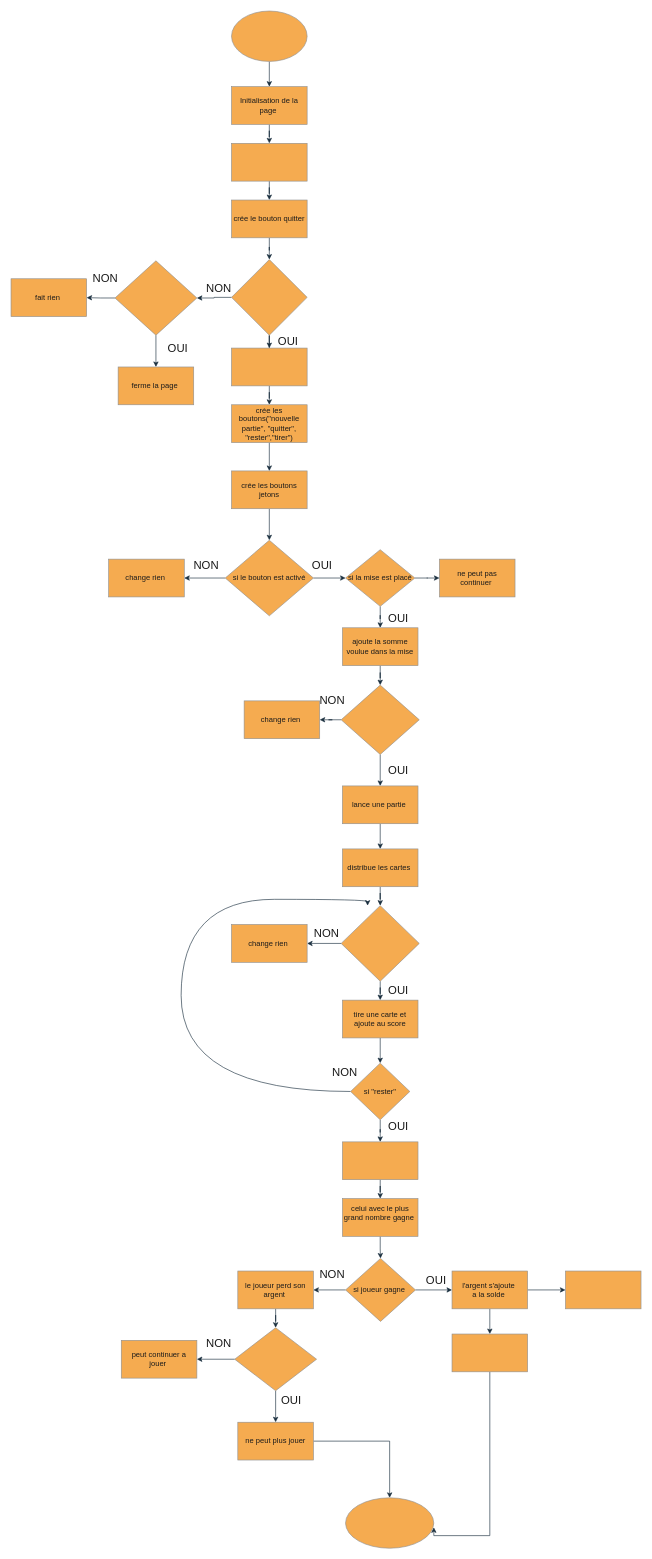
Image size: 652x1559. Some labels were removed from this diagram. The shapes that lost their labels are listed below. From the top down, each one's centre as x and y in pixels, then its label:
point (269, 35): Début
point (269, 162): Crée le bouton jouer
point (155, 297): si bouton quitter est activé
point (269, 297): si bouton jouer est activé
point (269, 366): Lance le jeu
point (380, 719): si le btn "nouvelle partie" est activé
point (380, 943): si "tirer" activé
point (380, 1160): compare les scores des joueurs
point (603, 1289): peut quitter
point (275, 1359): si joueur n'a plus d'argent
point (489, 1352): peut rejouer
point (389, 1522): FIN
